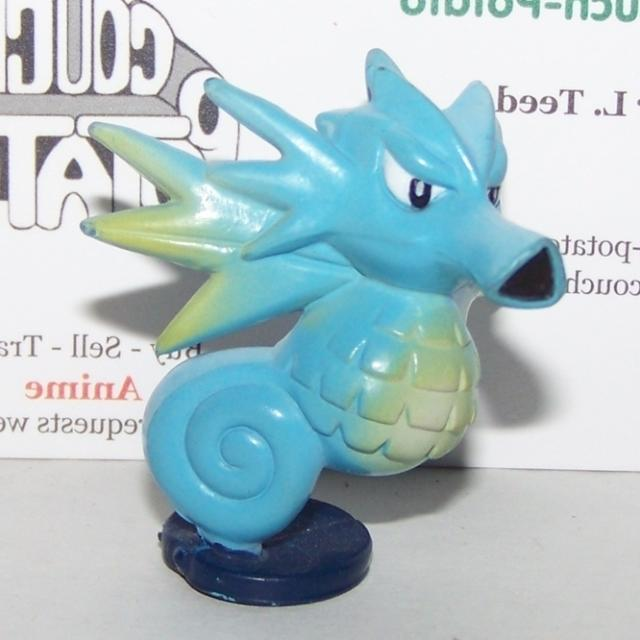Seadra: (49, 56, 572, 552)
